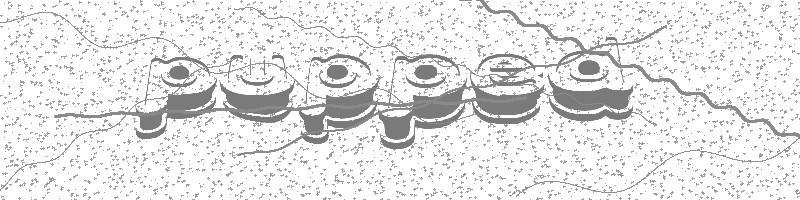d: (548, 32, 639, 135)
e: (471, 52, 548, 132)
p: (291, 49, 383, 146), (379, 55, 469, 153), (136, 49, 220, 144)
u: (217, 48, 300, 125)
